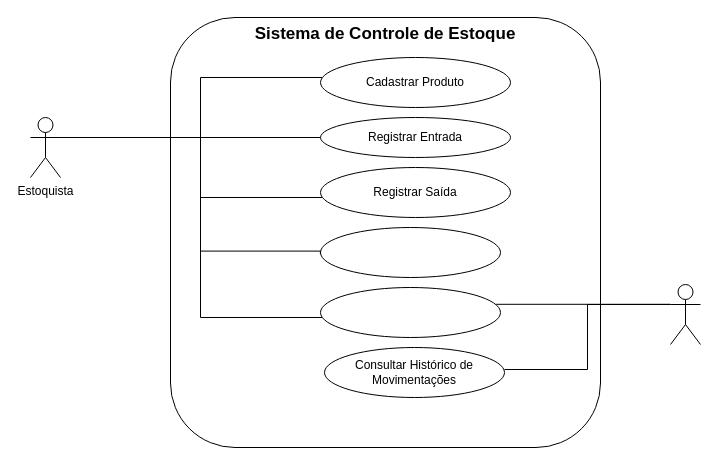
Image size: 720x465. Some labels were removed from this diagram. Each missing label, with the box of its shape:
Consultar Estoque: (320, 286, 500, 338)
Gestor: (670, 284, 700, 344)
Registrar Perda/ Avaria/ Devolução/ Ajuste: (320, 226, 500, 278)
